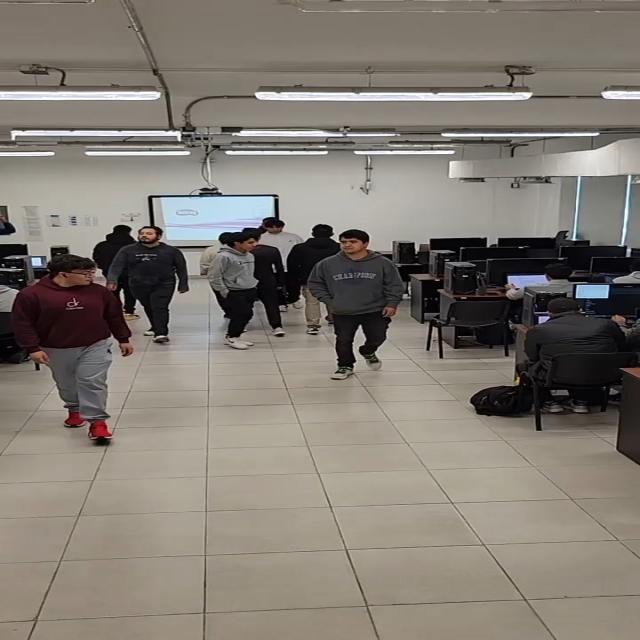Persona: (9, 255, 134, 448), (308, 230, 408, 380), (104, 225, 191, 343), (285, 224, 353, 332), (205, 232, 265, 352), (247, 219, 306, 269), (90, 225, 140, 268)
